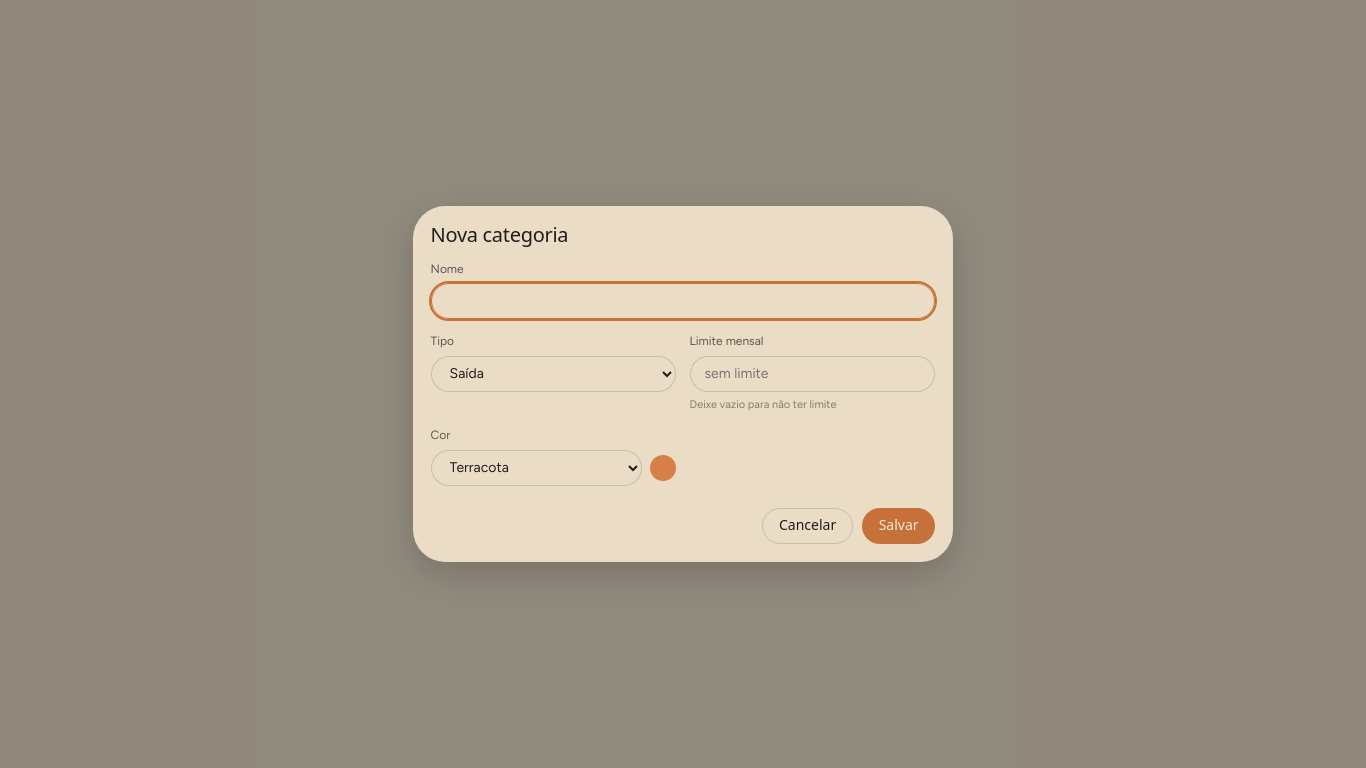
Test: erros vindos da API › mostra erro geral quando a falha não é de campo, e mantém o diálogo aberto
Type "Moradia" into the field labelled "Nome". click: (683,301)
box: [431,283,935,319]
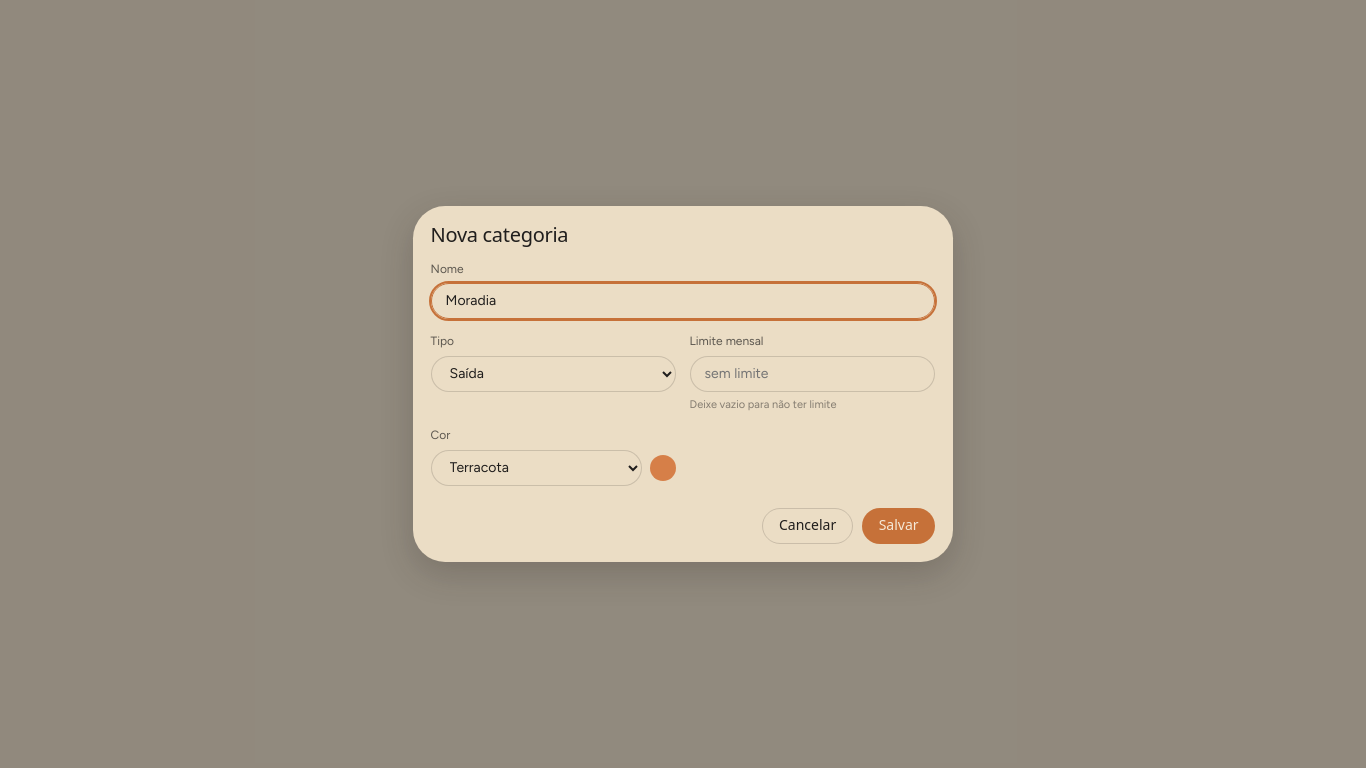
Click the button "Salvar". click: (899,526)
box: [862,508,935,544]
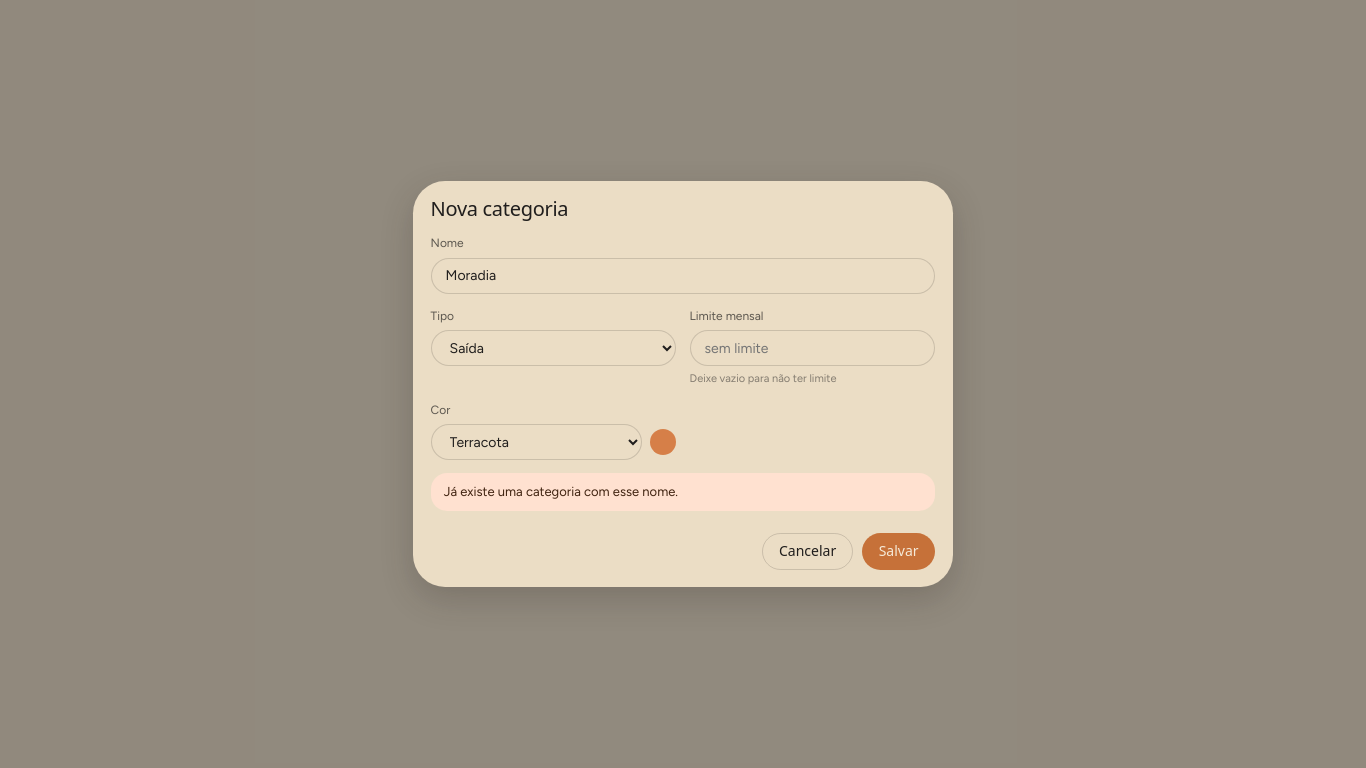
Expected: the dialog is shown, [413,181,953,587]
Now the text "Já existe uma categoria com esse nome." is shown, box [431,473,935,511]
